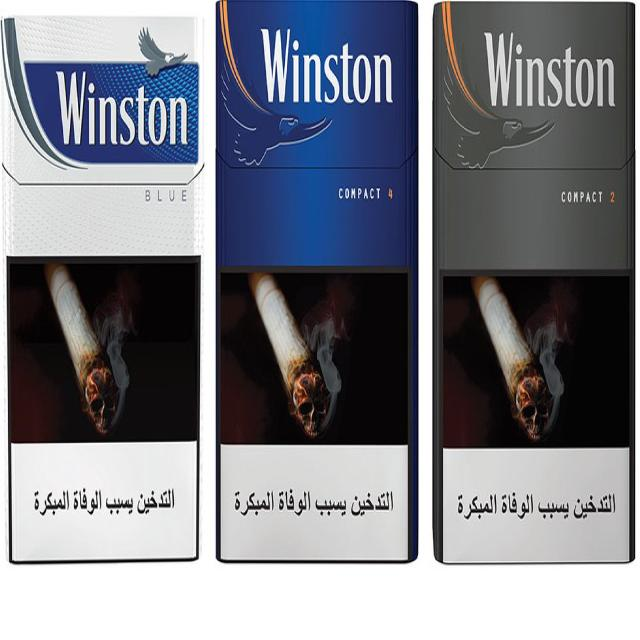winston: (0, 6, 213, 568), (216, 0, 418, 563), (434, 0, 634, 563)
